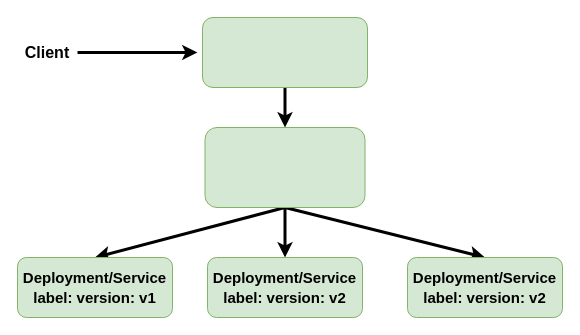
Image size: 580x335. Some labels were removed from this diagram. Here are the shapes that lost their labels. From the top down, the box of each, then its label:
(202, 16, 368, 88): VirtualService if Host: review goto Subset: v1
(204, 126, 365, 208): DestinationRule if Subset: v* goto version v*
